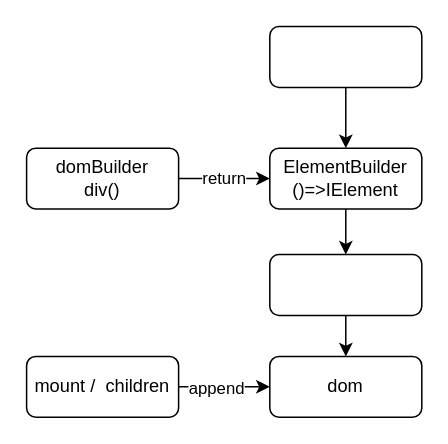
Some shapes in this 448 by 444 pixel diagram are drawn without their labels. Each missing label, with the centre of its shape:
"binding" belongs at point (345, 284).
"transform" belongs at point (345, 56).
